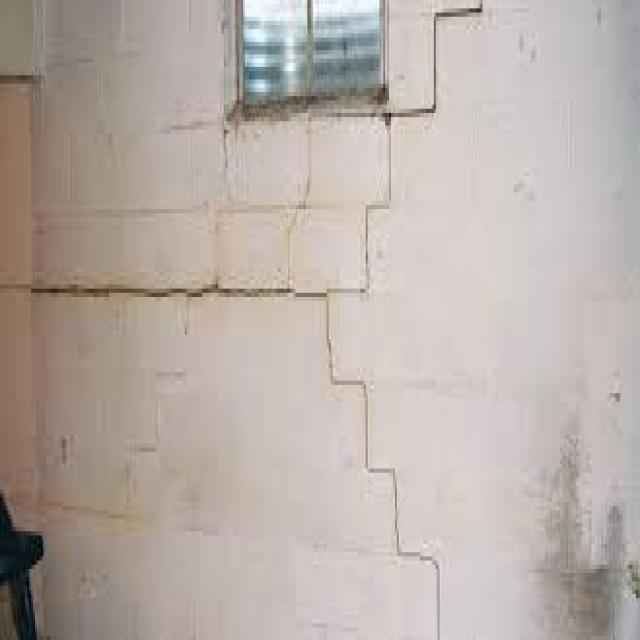Crack: (337, 0, 482, 293), (323, 293, 441, 636), (29, 280, 331, 297)
